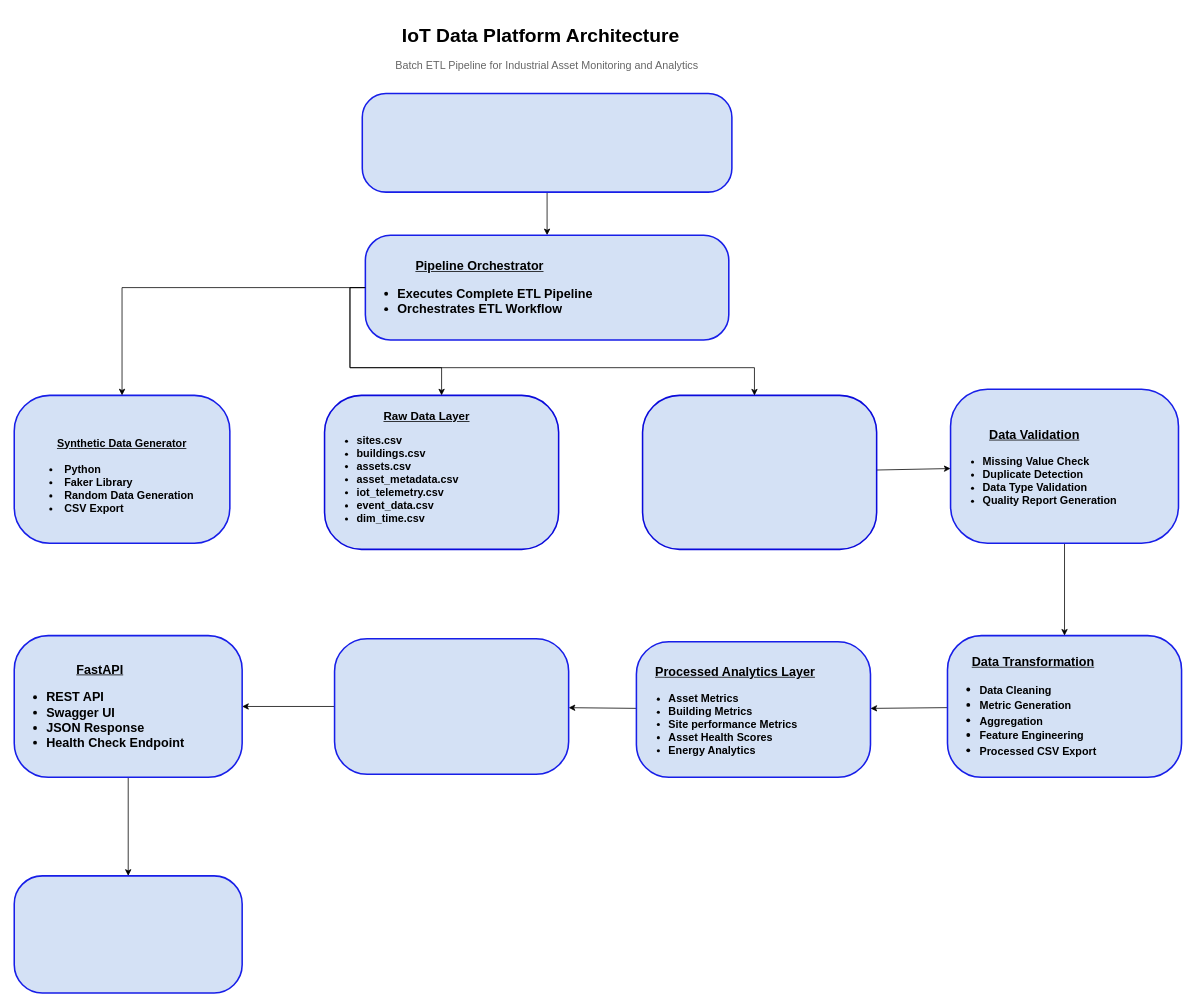
Some shapes in this 1195 by 1006 pixel diagram are drawn without their labels. Each missing label, with the box of its shape:
Analytics Dashboard PowerBI API Consumers: (13, 875, 243, 993)
Data Ingestion Read CSV Files Create DataFrames Logging Load Raw Data: (641, 394, 877, 550)
PostgreSQL Data Warehouse (Star Schema) Dimension Tables Fact Tables: (333, 638, 569, 775)
Windows Task Scheduler Pipeline Automation Scheduled Execution: (361, 92, 732, 192)
